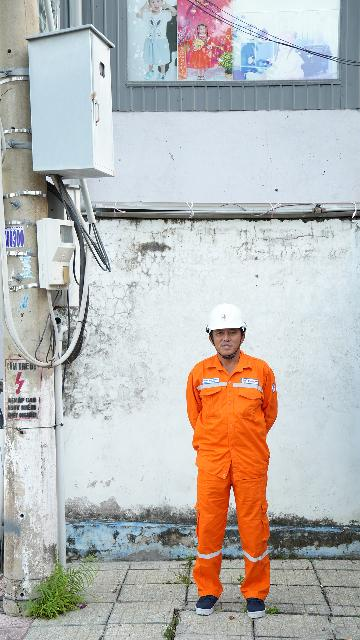helmet: (195, 301, 256, 339)
shoes: (194, 585, 222, 619), (237, 592, 271, 618)
